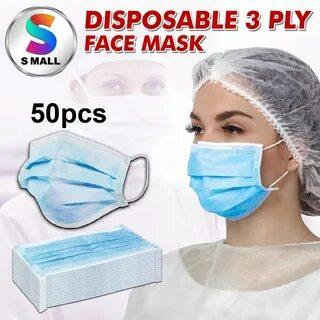hairnet: (175, 35, 320, 147), (173, 47, 320, 149), (319, 152, 320, 186)
mask: (13, 117, 156, 253), (22, 129, 177, 214), (22, 135, 127, 228), (196, 117, 278, 227)
